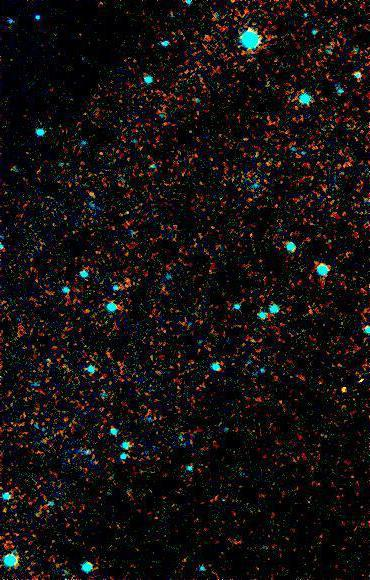star: (330, 373, 360, 403)
